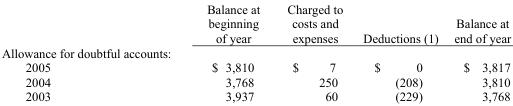table: (0, 1, 510, 103)
table column: (128, 1, 272, 103), (0, 1, 128, 103), (352, 1, 445, 103), (272, 1, 352, 103), (445, 1, 510, 103)
table column header: (0, 1, 510, 44)
table projected row header: (0, 44, 510, 59)
table row: (0, 1, 510, 44), (0, 44, 510, 59), (0, 59, 510, 74), (0, 88, 510, 103), (0, 74, 510, 88)
